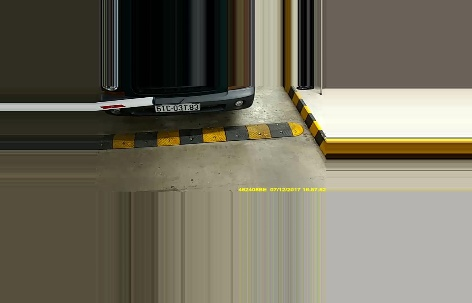plate: (154, 103, 202, 113)
